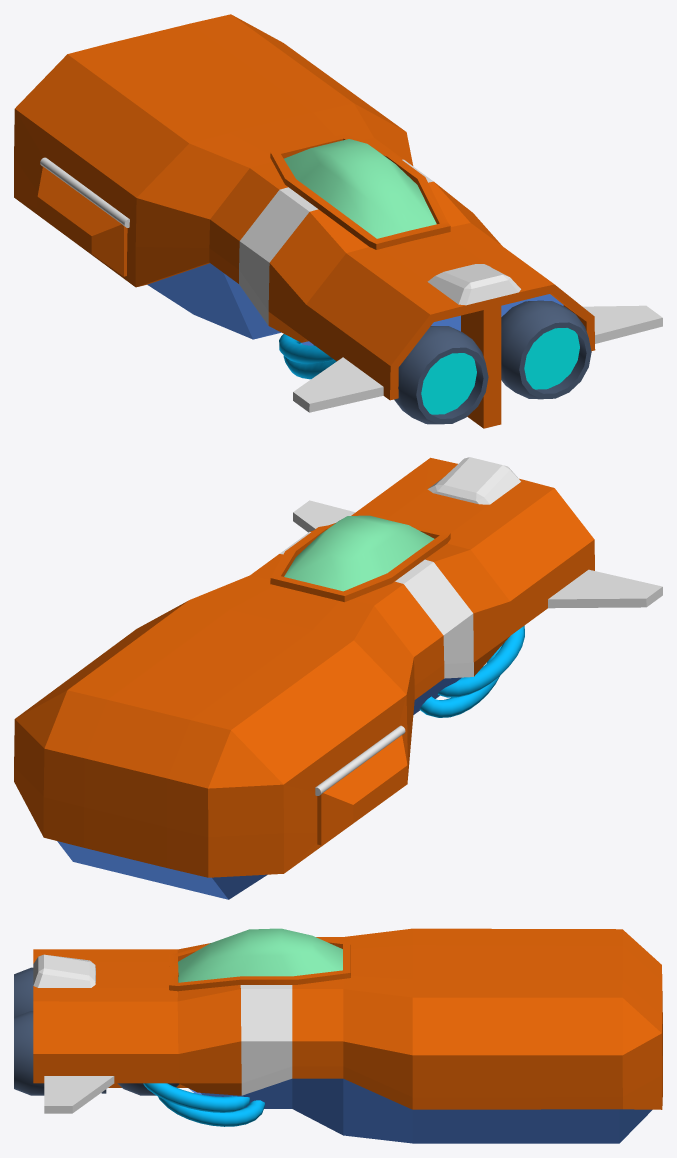
Rendered from Spaceship.fbx.
3 renders of one model, top to bottom at view 1: azimuth 30°, elevation 25°; view 2: azimuth 150°, elevation 25°; view 3: azimuth 270°, elevation 25°, orthographic. The views are drawn at different scales.
Parts seen in each view (by area): view 1: SpaceshipMesh, StorageDoor; view 2: SpaceshipMesh, StorageDoor; view 3: SpaceshipMesh.
Boxes of the visible parts, x1,y1,x2,y2 form: SpaceshipMesh: (14,14,662,428); StorageDoor: (37,157,129,276); SpaceshipMesh: (14,457,662,899); StorageDoor: (315,725,407,845); SpaceshipMesh: (14,928,662,1143).
Bounding box in the file's own units: 902 × 495 × 1672.
